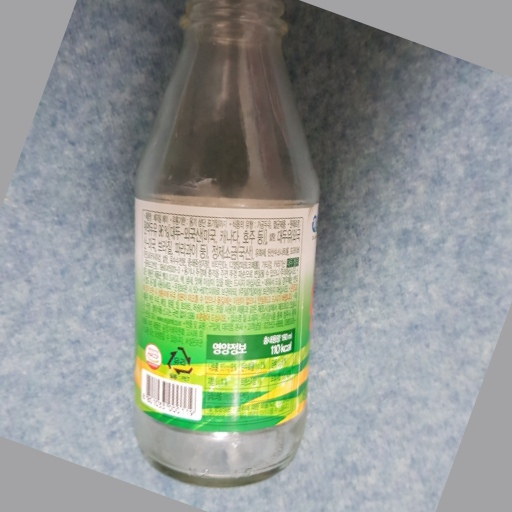Glass_4: (128, 2, 320, 485)
